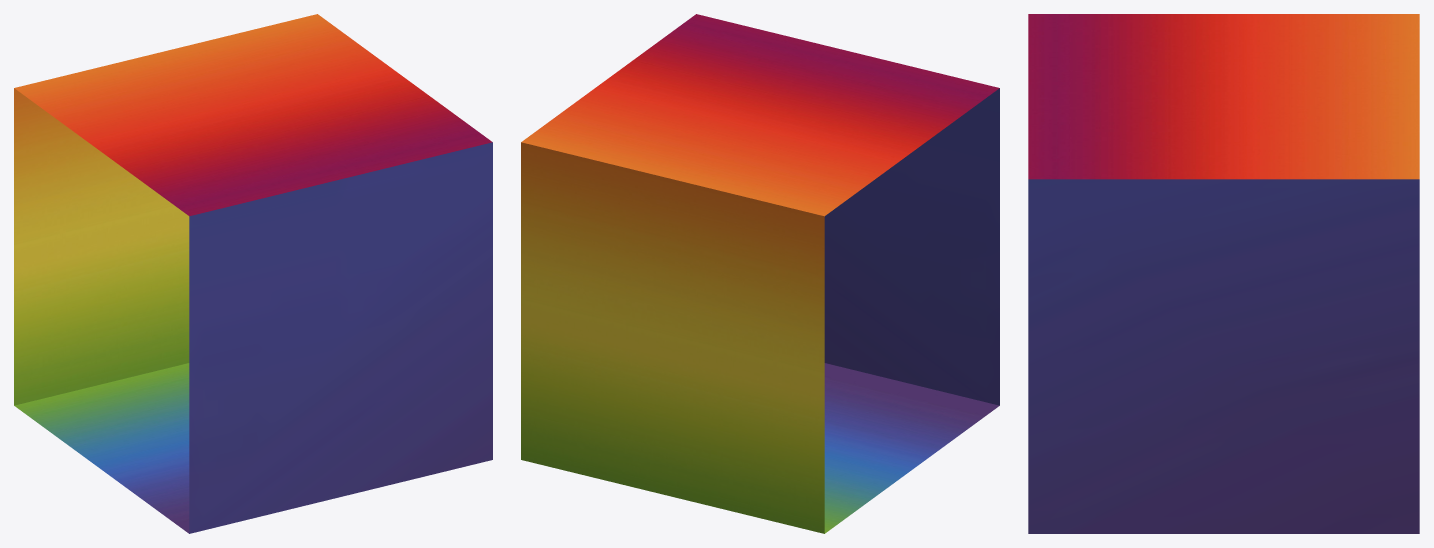
Rendered from groundTile.fbx.
The picture shows the model from 3 angles, left to right: view 1: azimuth 30°, elevation 25°; view 2: azimuth 150°, elevation 25°; view 3: azimuth 270°, elevation 25°; orthographic projection. The views are drawn at different scales.
Visible parts, largest first — view 1: Cube; view 2: Cube; view 3: Cube.
Part boxes in pixels (left/top/right/bottom): Cube: left=14, top=14, right=492, bottom=533; Cube: left=521, top=14, right=999, bottom=533; Cube: left=1028, top=14, right=1419, bottom=533.
Bounding box in the file's own units: 200 × 200 × 200.
Materials: 1 (1 with a texture image).
